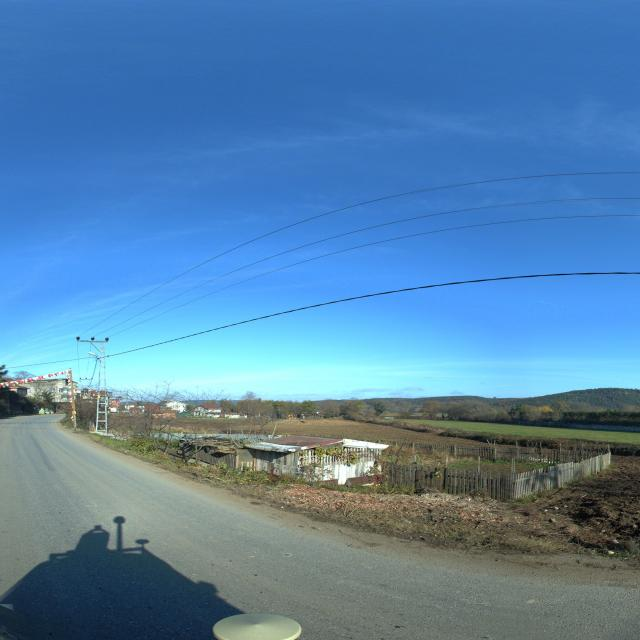Utility Pole Information Plate: (97, 396, 100, 398)
